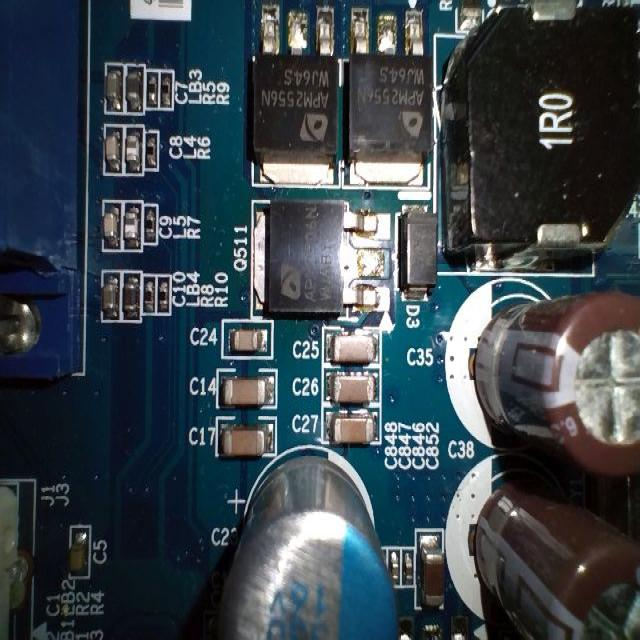capacitor: (415, 527, 447, 615), (327, 324, 379, 372), (217, 371, 276, 411), (321, 368, 379, 407), (322, 415, 379, 447), (220, 422, 273, 456), (66, 528, 90, 580), (100, 271, 119, 320), (106, 58, 122, 115), (106, 196, 118, 257), (106, 131, 120, 170)
resistor: (142, 131, 160, 171), (159, 71, 175, 111), (143, 207, 157, 246), (157, 275, 170, 315), (146, 275, 156, 319)
